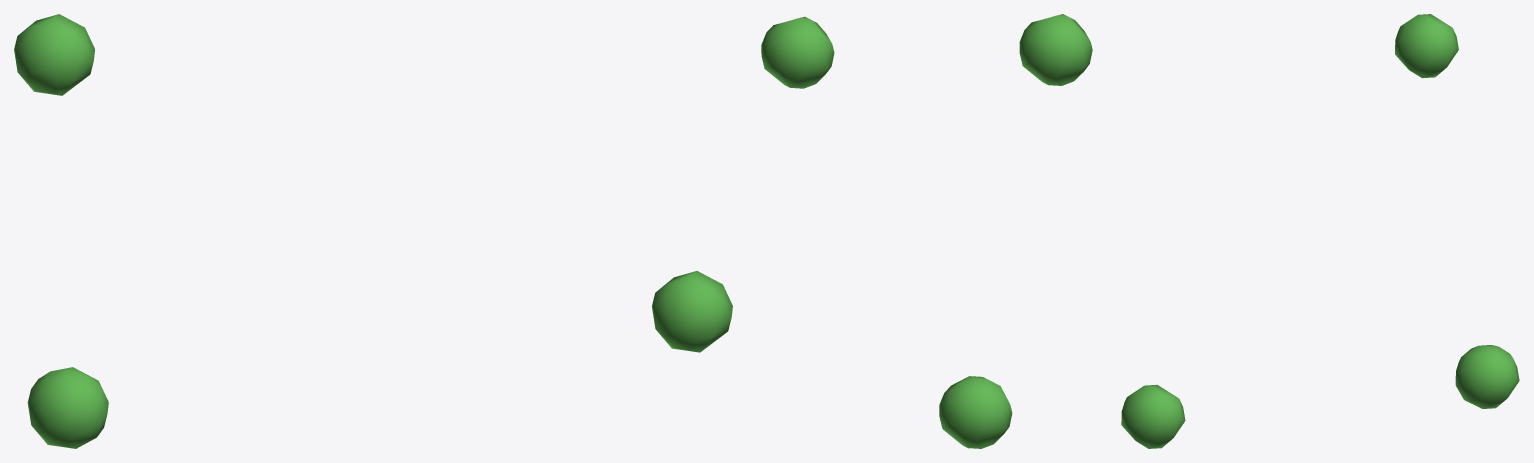
Rendered from linfatico-mandibular-node-r.glb.
3 views of the same model, side by side, from view 1: azimuth 30°, elevation 25°; view 2: azimuth 150°, elevation 25°; view 3: azimuth 270°, elevation 25° (orthographic). The views are drawn at different scales.
Parts seen in each view (by area): view 1: Mandibular node.r; view 2: Mandibular node.r; view 3: Mandibular node.r.
Part boxes in pixels (left/top/right/bottom): Mandibular node.r: left=14, top=14, right=732, bottom=448; Mandibular node.r: left=761, top=14, right=1092, bottom=448; Mandibular node.r: left=1121, top=14, right=1519, bottom=448.
Size of the model in its own units: 0.0193 by 0.0161 by 0.0157.
